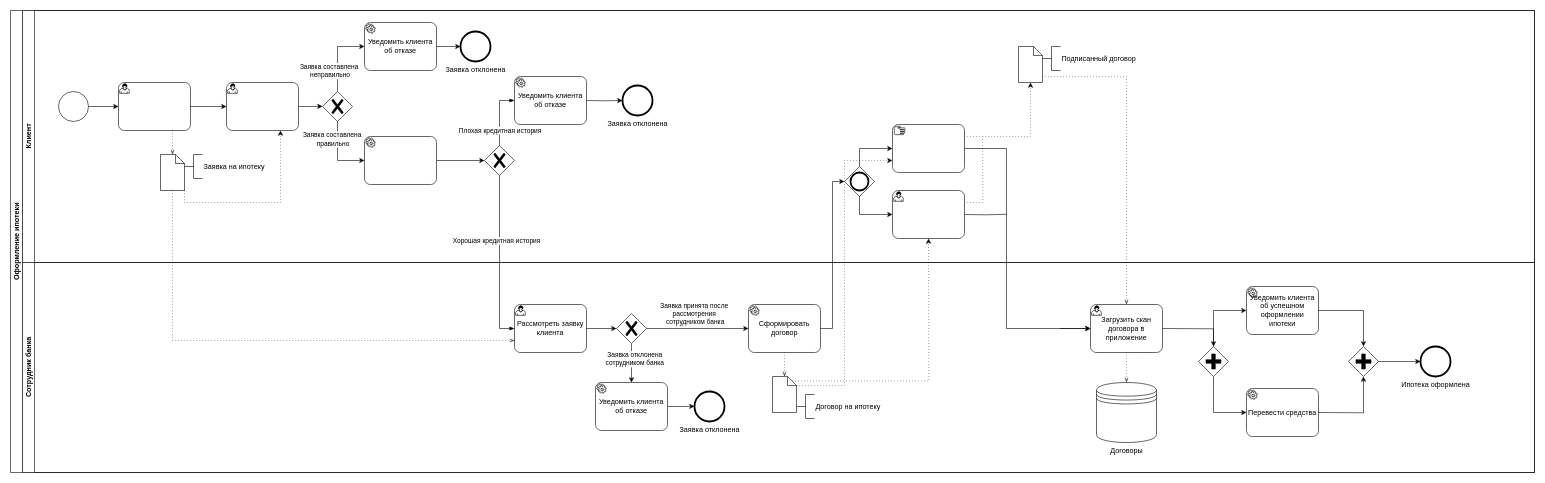
This 1545x483 diagram has some shape labels left out. Each missing label, with the centre of its shape:
Инициировано оформление ипотеки: (x=73, y=106)
Подписать договор вручную: (x=928, y=148)
Подписать договор электронной подписью: (x=928, y=214)
Проверить заявку на ипотеку: (x=262, y=106)
Проверить кредитную историю: (x=400, y=160)
Составить заявку на ипотеку: (x=154, y=106)
